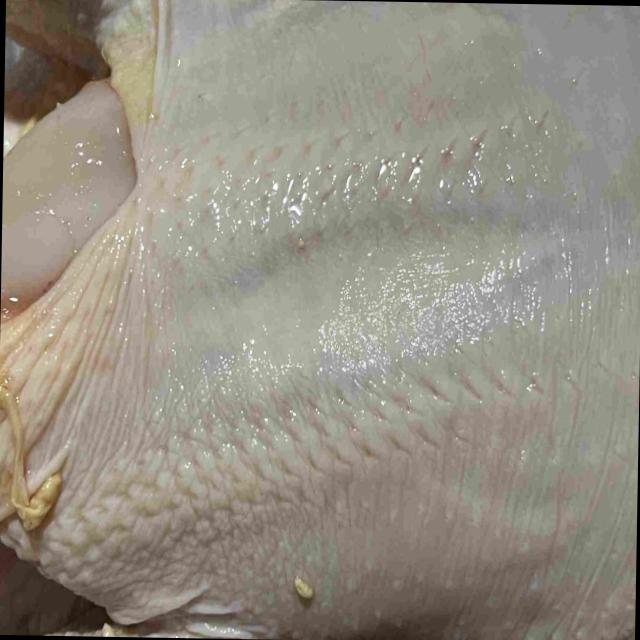breast: (0, 0, 640, 640)
leg: (5, 0, 263, 105)
